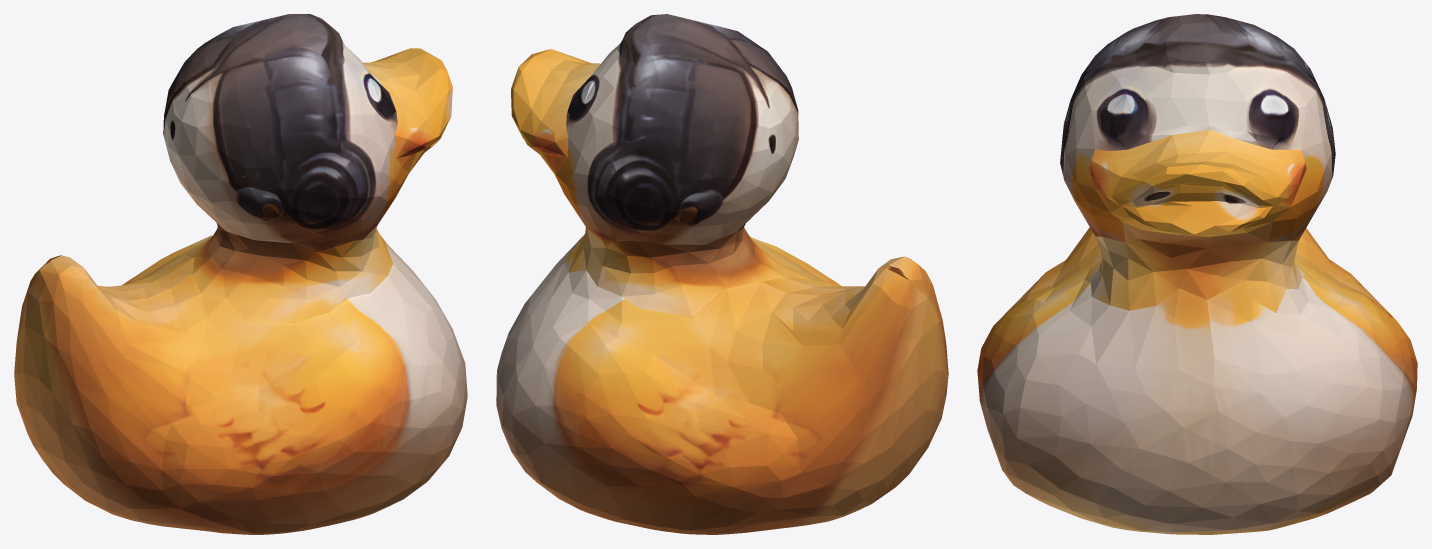
Rendered from rubber_ducky_with_headphones.glb.
The picture shows the model from 3 angles, left to right: view 1: azimuth 30°, elevation 25°; view 2: azimuth 150°, elevation 25°; view 3: azimuth 270°, elevation 25°; orthographic projection. The views are drawn at different scales.
Visible parts, largest first — view 1: final_rubber_duck; view 2: final_rubber_duck; view 3: final_rubber_duck.
Boxes of the visible parts, left/top/right/bottom form: final_rubber_duck: left=14, top=14, right=467, bottom=534; final_rubber_duck: left=496, top=14, right=948, bottom=534; final_rubber_duck: left=977, top=14, right=1417, bottom=534.
Size of the model in its own units: 1.77 by 1.78 by 1.56.
1 material, 1 textured.
